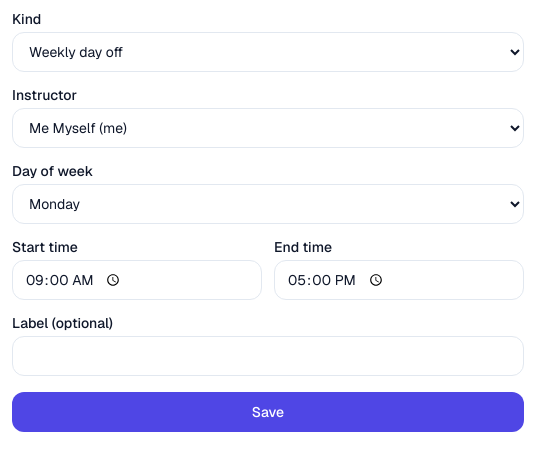
Test: AvailabilityBlockForm › hides the target-instructor picker once studio holiday is selected, since a holiday has no single instructor
Select "Studio holiday" in the dropdown labelled "Kind". click: [268, 52]
box: [12,32,524,72]
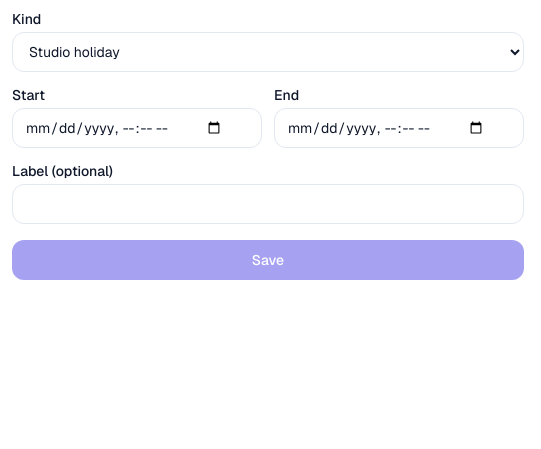
Check: the label labelled "Instructor" is gone
